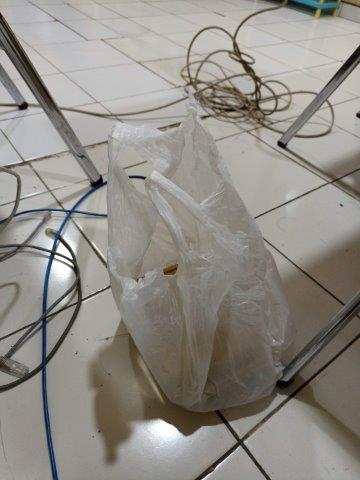plastik: (108, 111, 290, 412)
